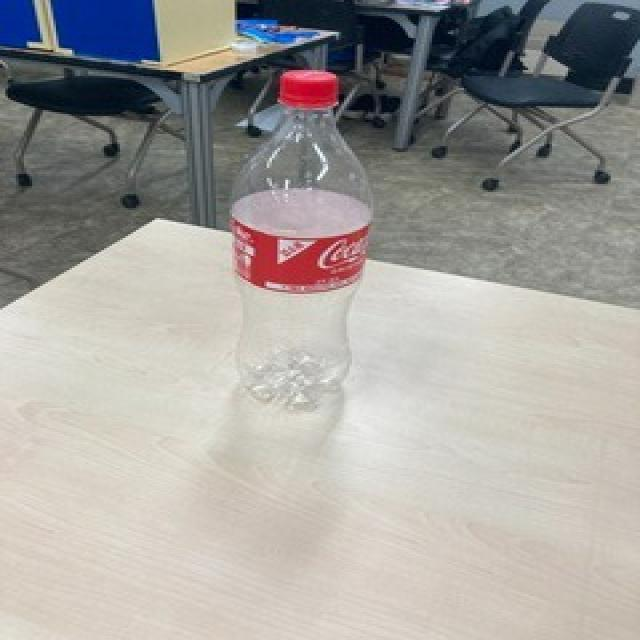good: (226, 58, 376, 412)
